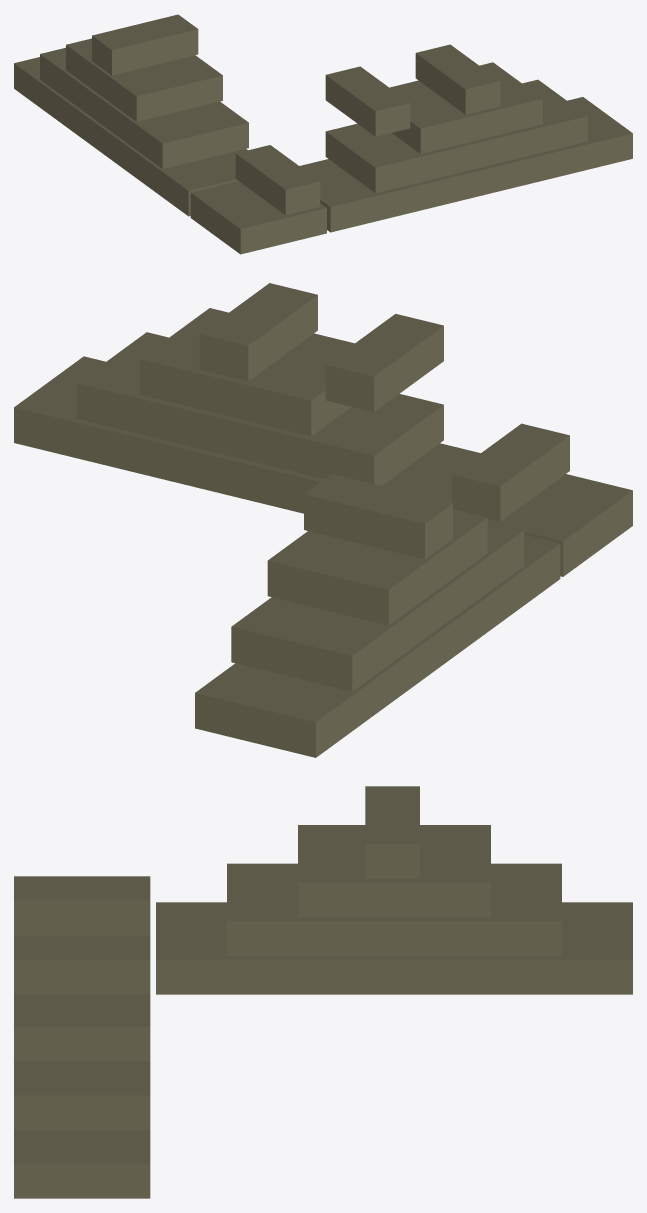
Rendered from SM_PretilEsquina_v1_Talud_e0_Sano_LOD1.fbx.
3 renders of one model, top to bottom at view 1: azimuth 30°, elevation 25°; view 2: azimuth 150°, elevation 25°; view 3: azimuth 270°, elevation 25°, orthographic. The views are drawn at different scales.
Visible parts, largest first — view 1: SM_pretil_azotea_v24_LOD1; view 2: SM_pretil_azotea_v24_LOD1; view 3: SM_pretil_azotea_v24_LOD1.
Part boxes in pixels (x1,y1,x2,y2): SM_pretil_azotea_v24_LOD1: (14,14,632,254); SM_pretil_azotea_v24_LOD1: (14,283,632,757); SM_pretil_azotea_v24_LOD1: (14,786,632,1198).
Size of the model in its own units: 4.36 by 1.17 by 4.36.
